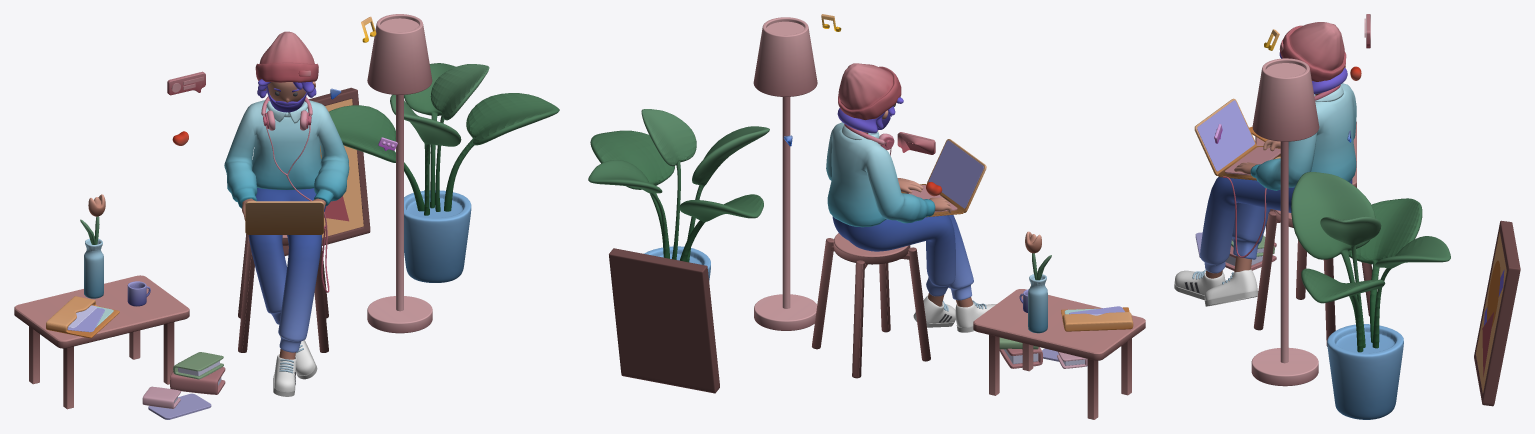
The model's file is room-compressed.glb.
3 views of the same model, side by side, from view 1: azimuth 30°, elevation 25°; view 2: azimuth 150°, elevation 25°; view 3: azimuth 270°, elevation 25° (orthographic). The views are drawn at different scales.
Parts seen in each view (by area): view 1: body.001, leg, Rectangle.001, Cube 6, Cylinder 4, Cube 8, Cube 2.001, Cube 10, Rectangle.002, Cube 11, Cube 7.001, Cylinder 2 (+18 smaller); view 2: Cube 2.001, body.001, leg, Rectangle.001, Cylinder 4, Cube 7.001, Cube 8, Cube 11, Rectangle 2.008, Cylinder 2, Cylinder 3, Cube 9 (+17 smaller); view 3: Cube 6, leg, body.001, Cube 9, Cube 2.001, Cylinder 4, Cube 10, Cube 7.001, Rectangle 2.008, Cylinder 2, Cylinder 3, Cube 8 (+13 smaller).
Part boxes in pixels (x1,y1,x2,y2): body.001: [224, 100, 349, 208]; leg: [248, 188, 325, 352]; Rectangle.001: [14, 275, 189, 348]; Cube 6: [404, 190, 471, 282]; Cylinder 4: [367, 14, 432, 94]; Cube 8: [444, 93, 559, 211]; Cube 2.001: [282, 87, 370, 255]; Cube 10: [329, 105, 424, 211]; Rectangle.002: [245, 201, 323, 234]; Cube 11: [430, 64, 489, 211]; Cube 7.001: [255, 31, 318, 82]; Cylinder 2: [367, 296, 432, 333]; Cube 2.001: [609, 248, 719, 393]; body.001: [826, 122, 935, 227]; leg: [832, 215, 973, 300]; Rectangle.001: [973, 289, 1145, 360]; Cylinder 4: [753, 17, 817, 96]; Cube 7.001: [838, 63, 901, 119]; Cube 8: [590, 130, 674, 255]; Cube 11: [641, 109, 696, 259]; Rectangle 2.008: [928, 140, 983, 208]; Cylinder 2: [754, 294, 817, 330]; Cylinder 3: [782, 97, 790, 308]; Cube 9: [686, 126, 769, 262]; Cube 6: [1327, 324, 1403, 419]; leg: [1200, 177, 1352, 273]; body.001: [1250, 83, 1356, 190]; Cube 9: [1291, 172, 1375, 297]; Cube 2.001: [1474, 220, 1520, 406]; Cylinder 4: [1252, 58, 1319, 141]; Cube 10: [1348, 198, 1422, 342]; Cube 7.001: [1279, 22, 1346, 81]; Rectangle 2.008: [1197, 100, 1254, 171]; Cylinder 2: [1251, 348, 1318, 386]; Cylinder 3: [1280, 141, 1288, 363]; Cube 8: [1301, 268, 1385, 352].
Size of the model in its own units: 578 by 328 by 318.
49 materials, 33 textured.
